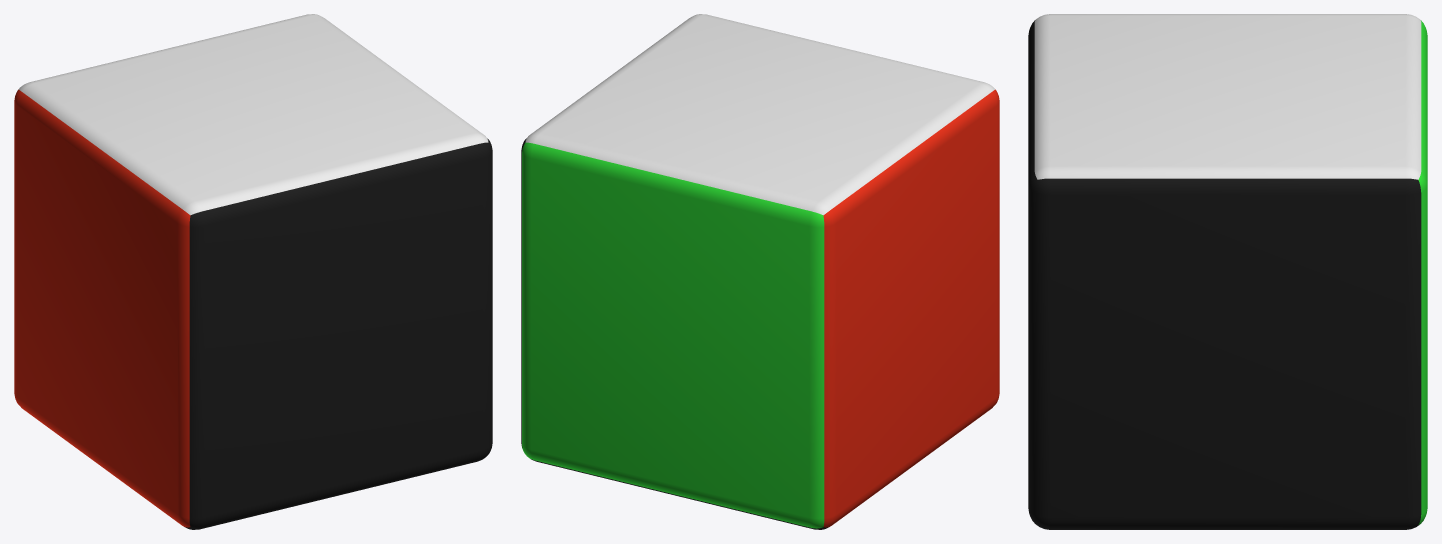
Rendered from wrg_corner.glb.
3 views of the same model, side by side, from view 1: azimuth 30°, elevation 25°; view 2: azimuth 150°, elevation 25°; view 3: azimuth 270°, elevation 25° (orthographic). The views are drawn at different scales.
Parts seen in each view (by area): view 1: Cube.008; view 2: Cube.008; view 3: Cube.008.
Boxes of the visible parts, x1=… form: Cube.008: x1=14, y1=14, x2=492, y2=529; Cube.008: x1=521, y1=14, x2=999, y2=529; Cube.008: x1=1028, y1=14, x2=1427, y2=529.
Bounding box in the file's own units: 2 × 2 × 2.
